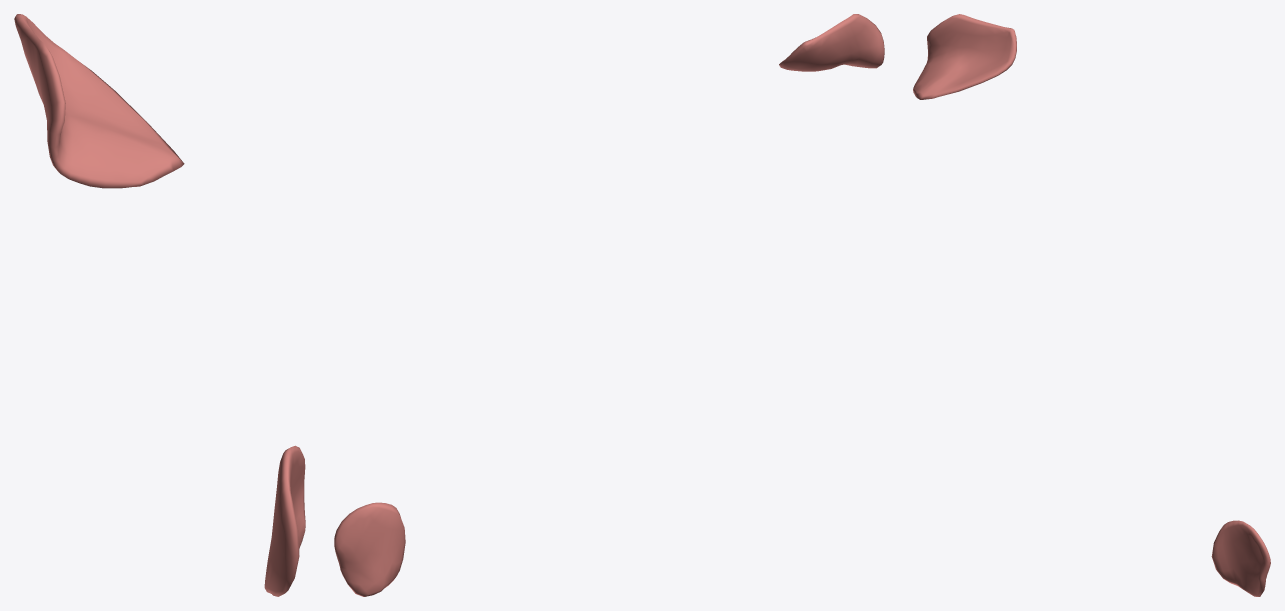
The picture shows the model from 3 angles, left to right: view 1: azimuth 30°, elevation 25°; view 2: azimuth 150°, elevation 25°; view 3: azimuth 270°, elevation 25°; orthographic projection. The views are drawn at different scales.
Parts seen in each view (by area): view 1: ZA_5c23baf18228f06c; view 2: ZA_5c23baf18228f06c; view 3: ZA_5c23baf18228f06c.
Part boxes in pixels (bbox=[...]): ZA_5c23baf18228f06c: bbox=[14, 14, 305, 596]; ZA_5c23baf18228f06c: bbox=[334, 14, 884, 596]; ZA_5c23baf18228f06c: bbox=[913, 14, 1270, 596].
Bounding box in the file's own units: 0.0241 × 0.0349 × 0.025.
